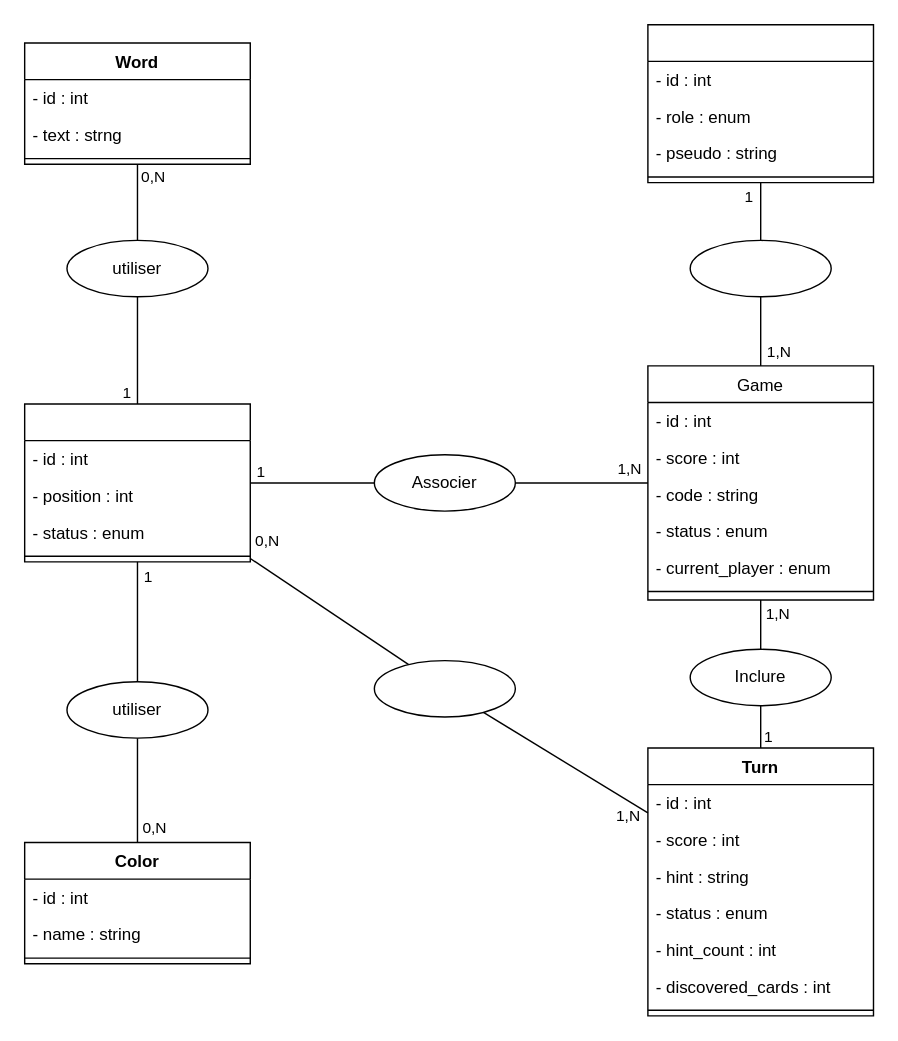
Some shapes in this 898 by 1041 pixel diagram are drawn without their labels. Here are the shapes that lost their labels. From the top down, the box of each, then its label:
(646, 23, 873, 183): Player
(689, 239, 831, 297): Jouer
(23, 403, 250, 562): Card
(373, 659, 515, 717): Participer
